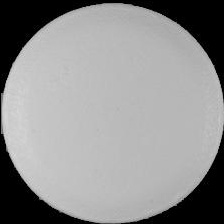68084-658: (0, 0, 224, 224)
